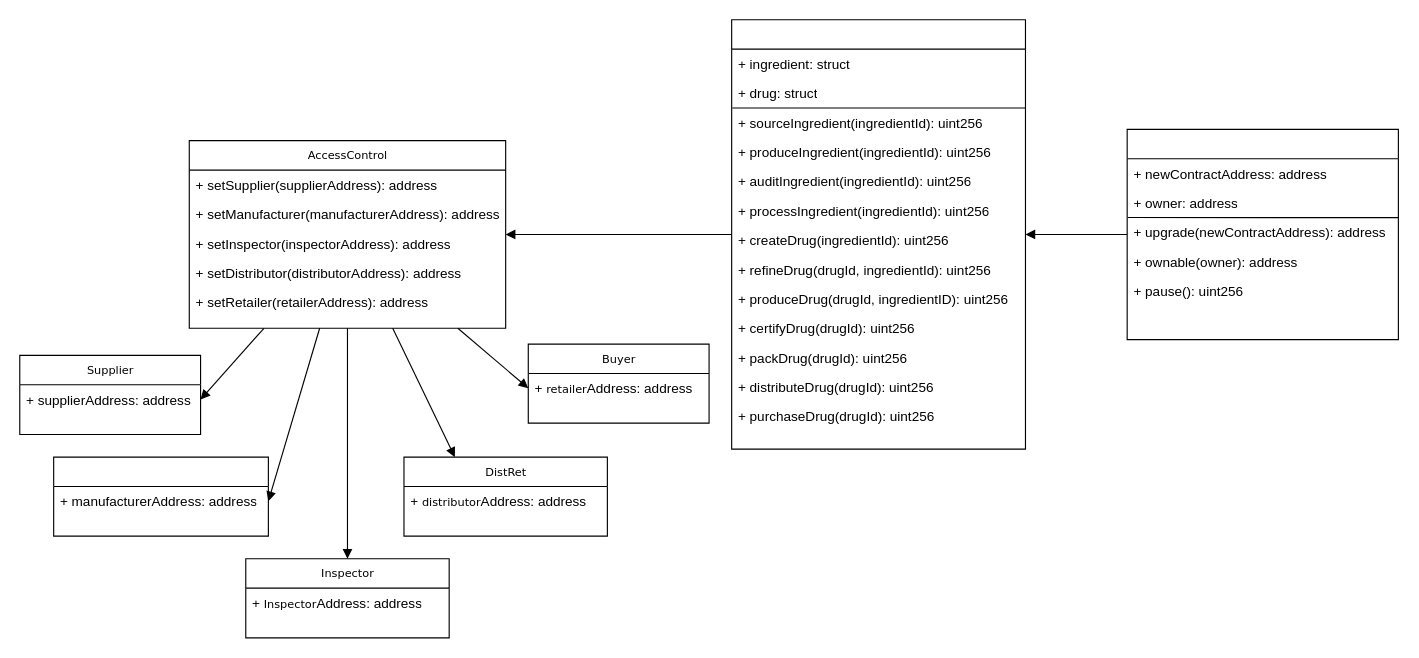
This 1419x658 diagram has some shape labels left out. Each missing label, with the box of its shape:
Base: (731, 19, 1025, 449)
Core: (1126, 128, 1398, 340)
Producer: (53, 456, 268, 536)
